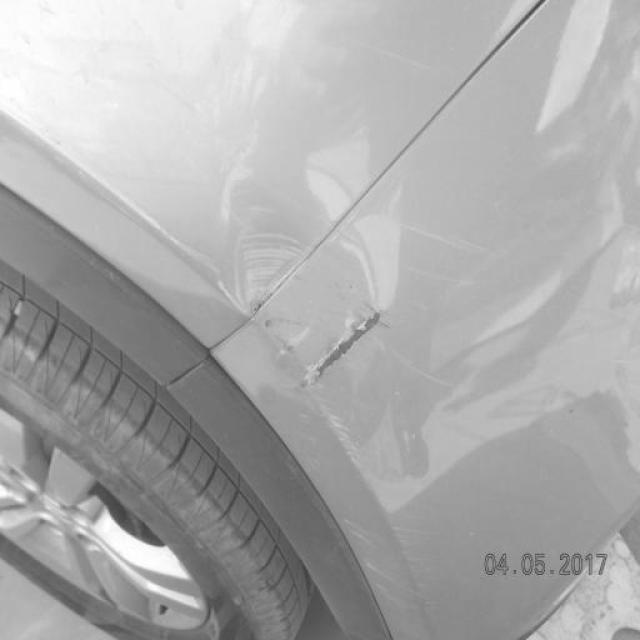dent: (216, 182, 369, 361)
scratch: (234, 224, 306, 317), (308, 304, 386, 383)
